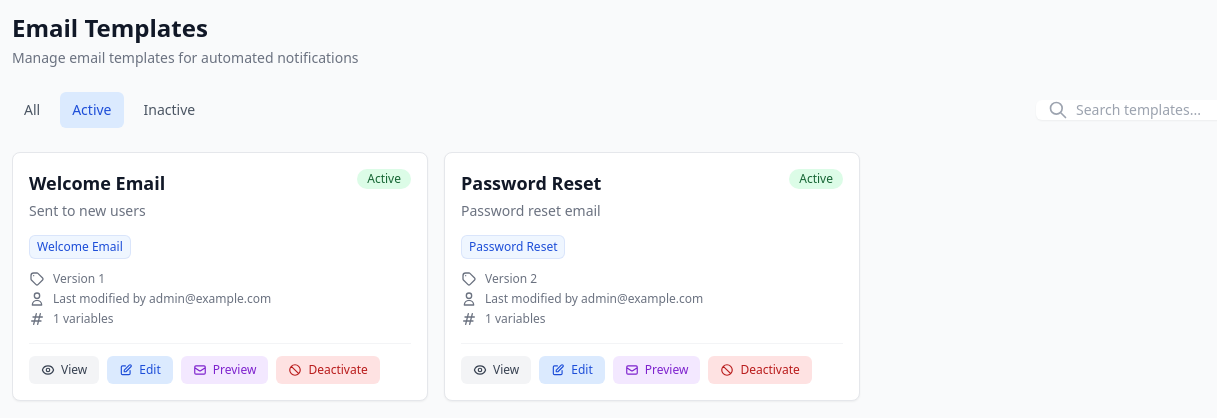
Test: EmailTemplatesList › Filtering › should show inactive templates when filter is set to inactive
Step 1. Click the button "Inactive" → (169, 110), box [132, 92, 207, 128]
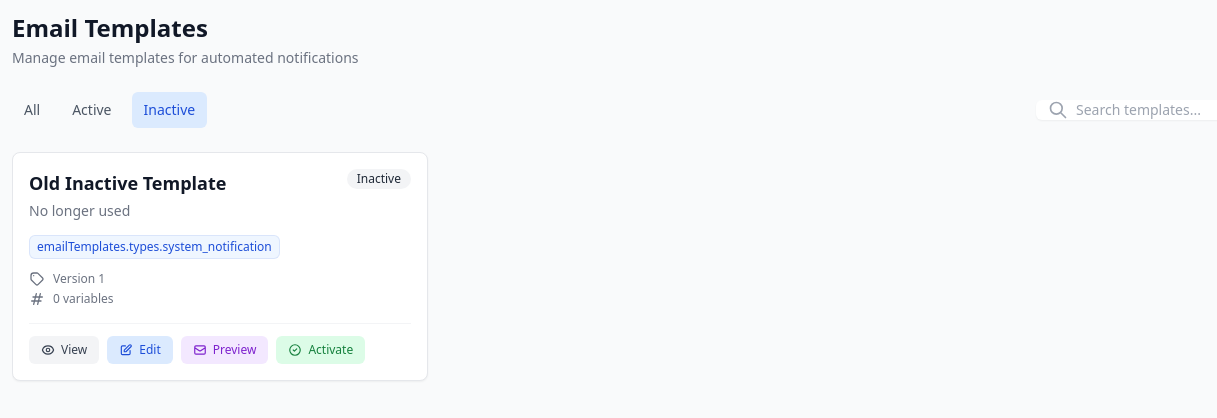
Check: the heading "Old Inactive Template" is shown, box [29, 171, 226, 195]
